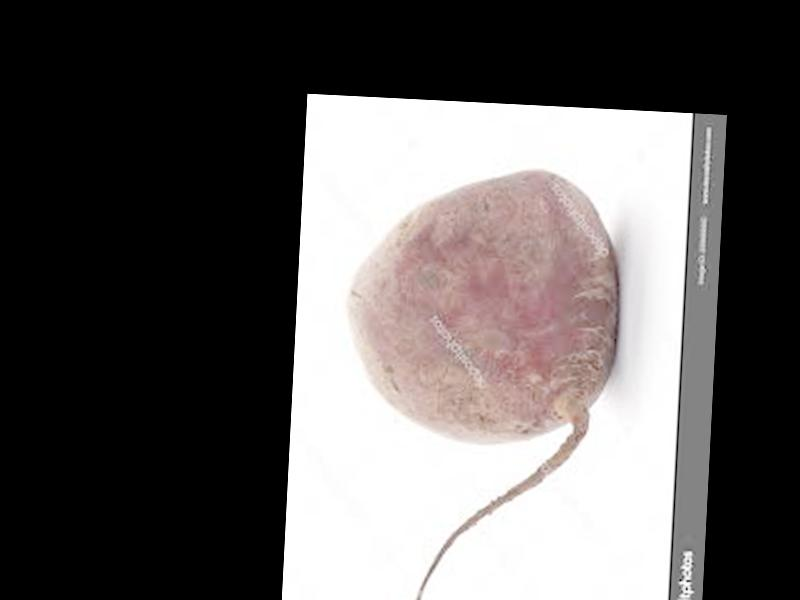Beet: (335, 161, 625, 600)
